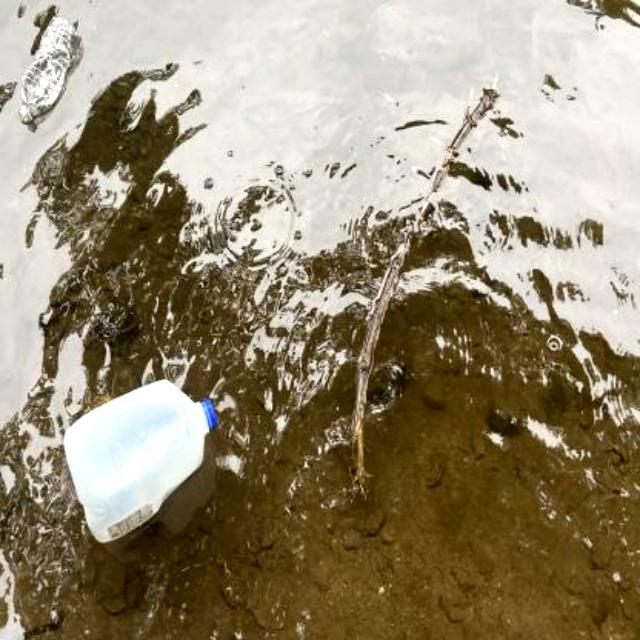Plastic: (58, 372, 224, 554), (8, 12, 84, 132)
